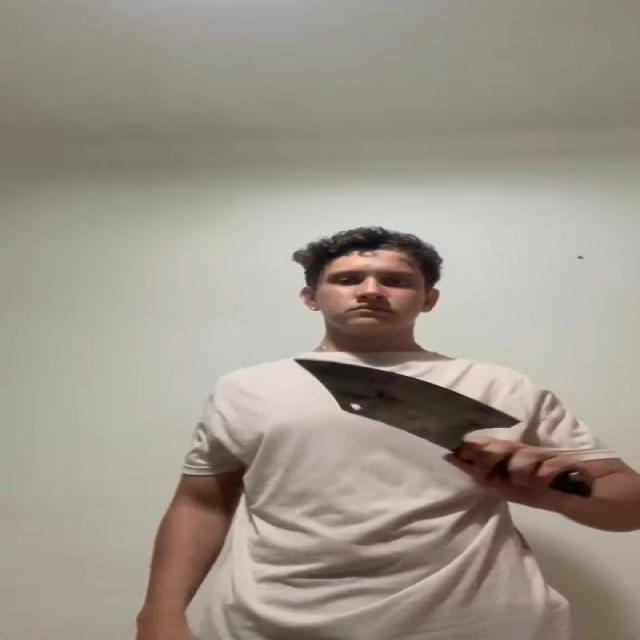knife: (293, 358, 517, 432)
